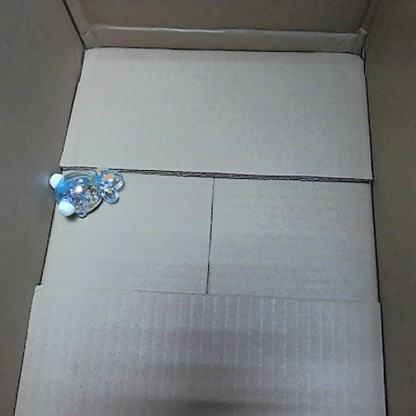bluefish: (43, 162, 125, 221)
